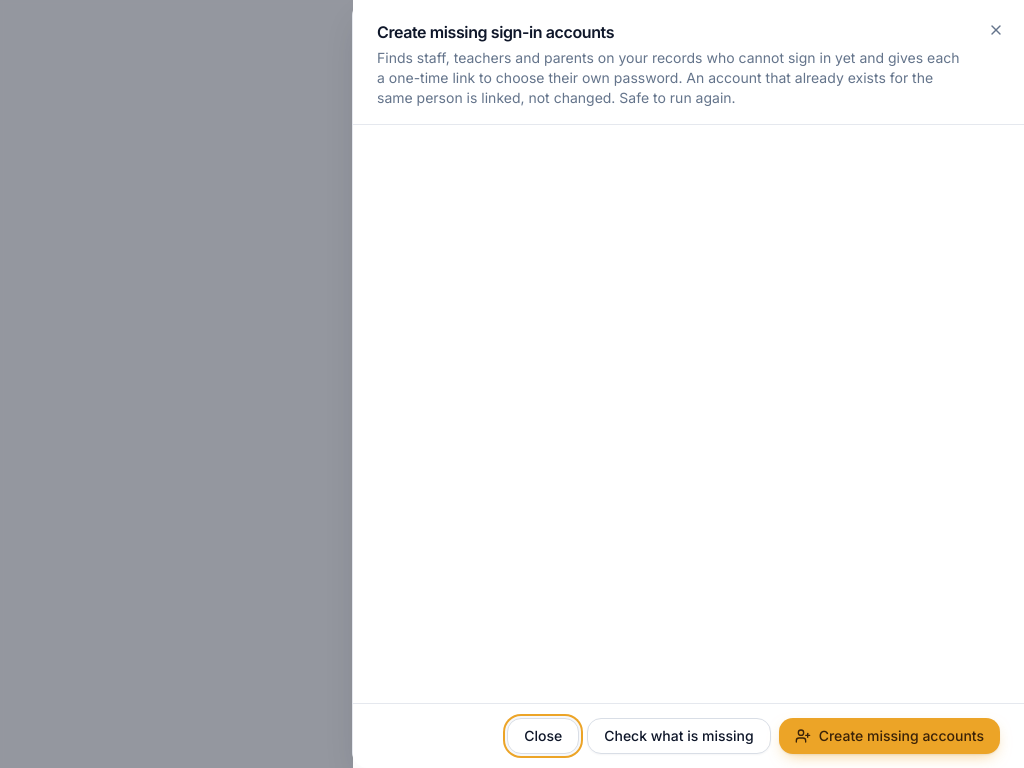
Create missing accounts › shows the server's reason when it fails
Click the button "Check what is missing". click: (679, 736)
box: [587, 718, 771, 754]
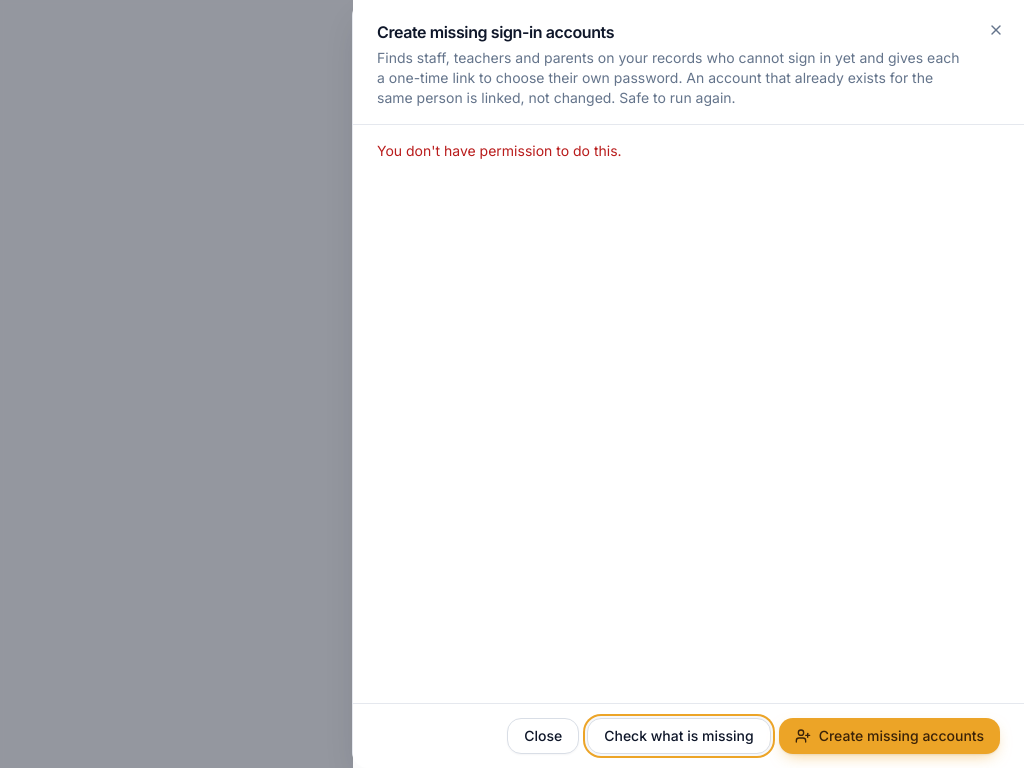
Expected: the message reads "You don't have permission to do this.", [377, 142, 622, 159]
